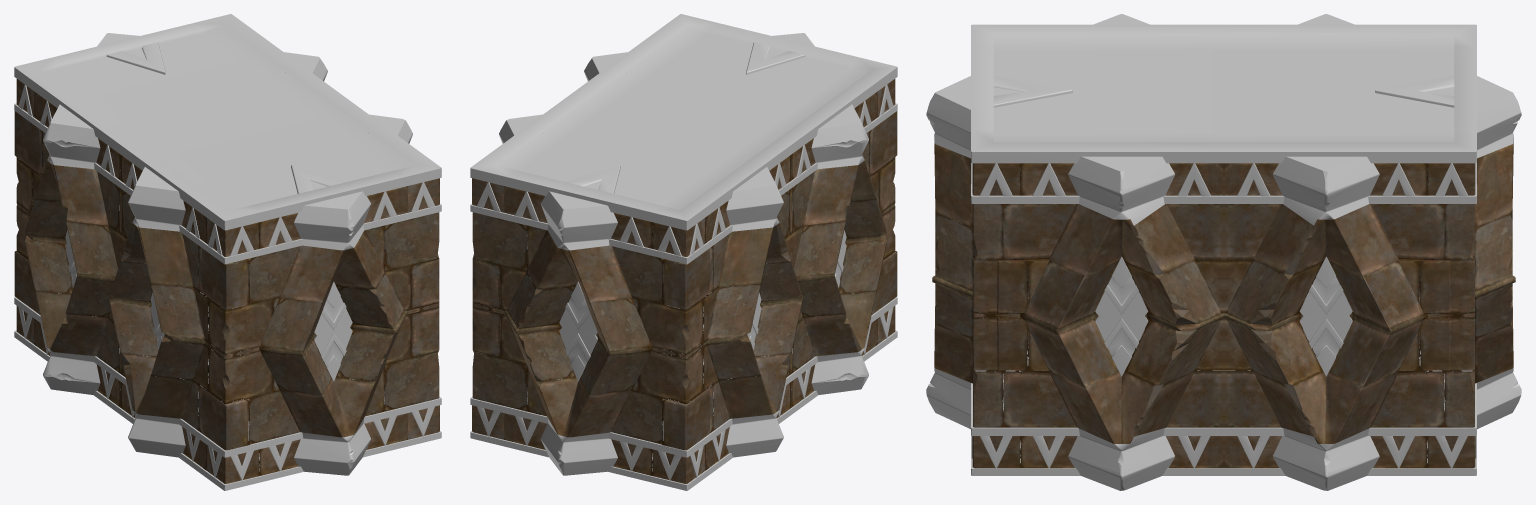
3 views of the same model, side by side, from view 1: azimuth 30°, elevation 25°; view 2: azimuth 150°, elevation 25°; view 3: azimuth 270°, elevation 25° (orthographic). The views are drawn at different scales.
Visible parts, largest first — view 1: SM_LightBridge_Cap_LOD0; view 2: SM_LightBridge_Cap_LOD0; view 3: SM_LightBridge_Cap_LOD0.
Part boxes in pixels (x1=…): SM_LightBridge_Cap_LOD0: x1=14, y1=14, x2=441, y2=490; SM_LightBridge_Cap_LOD0: x1=470, y1=14, x2=897, y2=490; SM_LightBridge_Cap_LOD0: x1=926, y1=14, x2=1521, y2=490.
Size of the model in its own units: 3.73 by 3.39 by 5.64.
